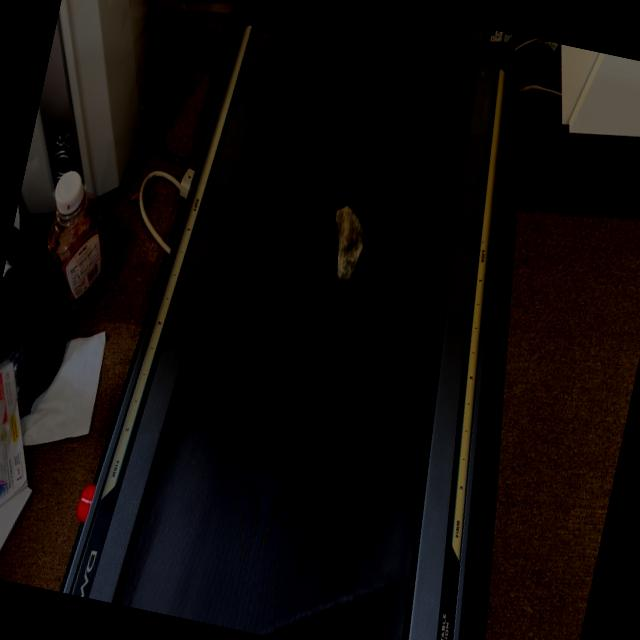Trash: (320, 200, 373, 290)
